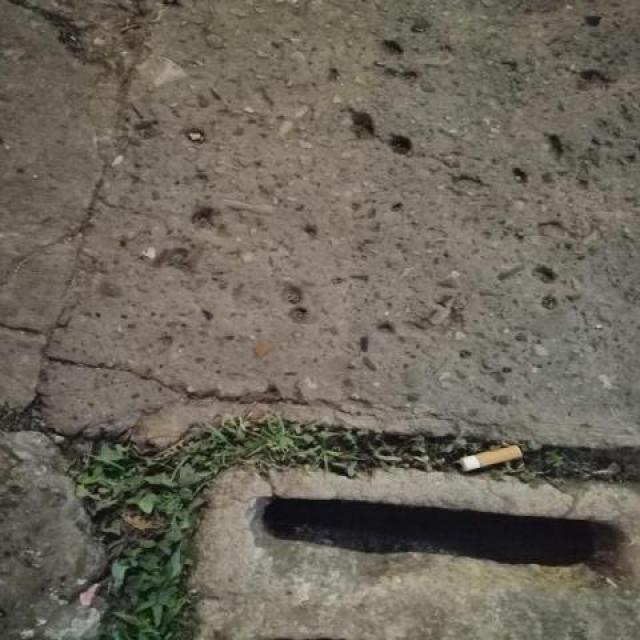non-organic waste: (453, 440, 528, 475)
